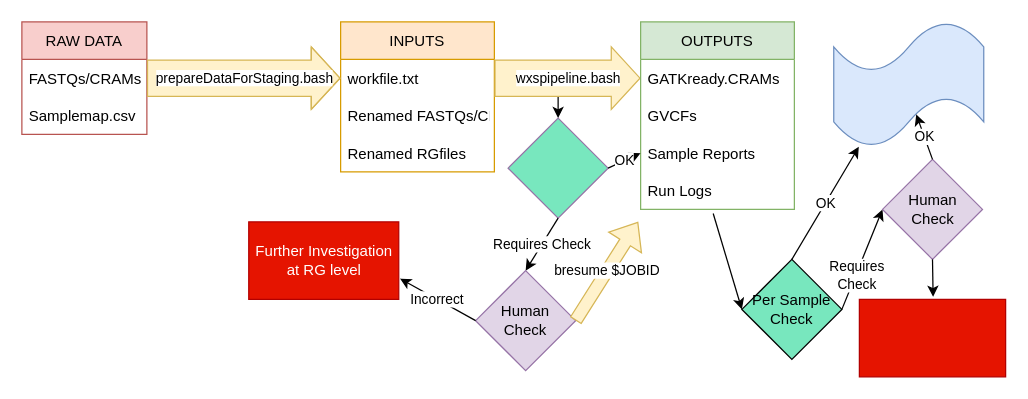
Image size: 1028x399. Some labels were removed from this diagram. The centre of each missing label's shape, as x and y in pixels:
Further Investigation at SAMPLE level: point (932, 337)
Per RG Check: point (557, 167)
Sample COMPLETE: point (908, 84)
